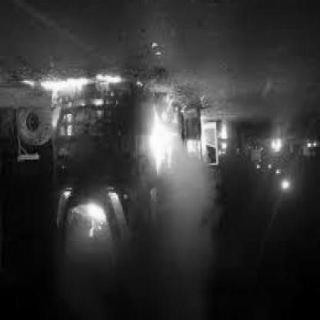Fire: (19, 55, 211, 253)
